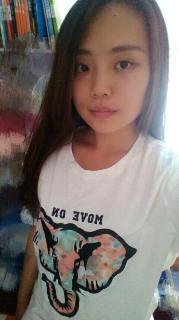short sleeve top: (19, 130, 179, 320)
